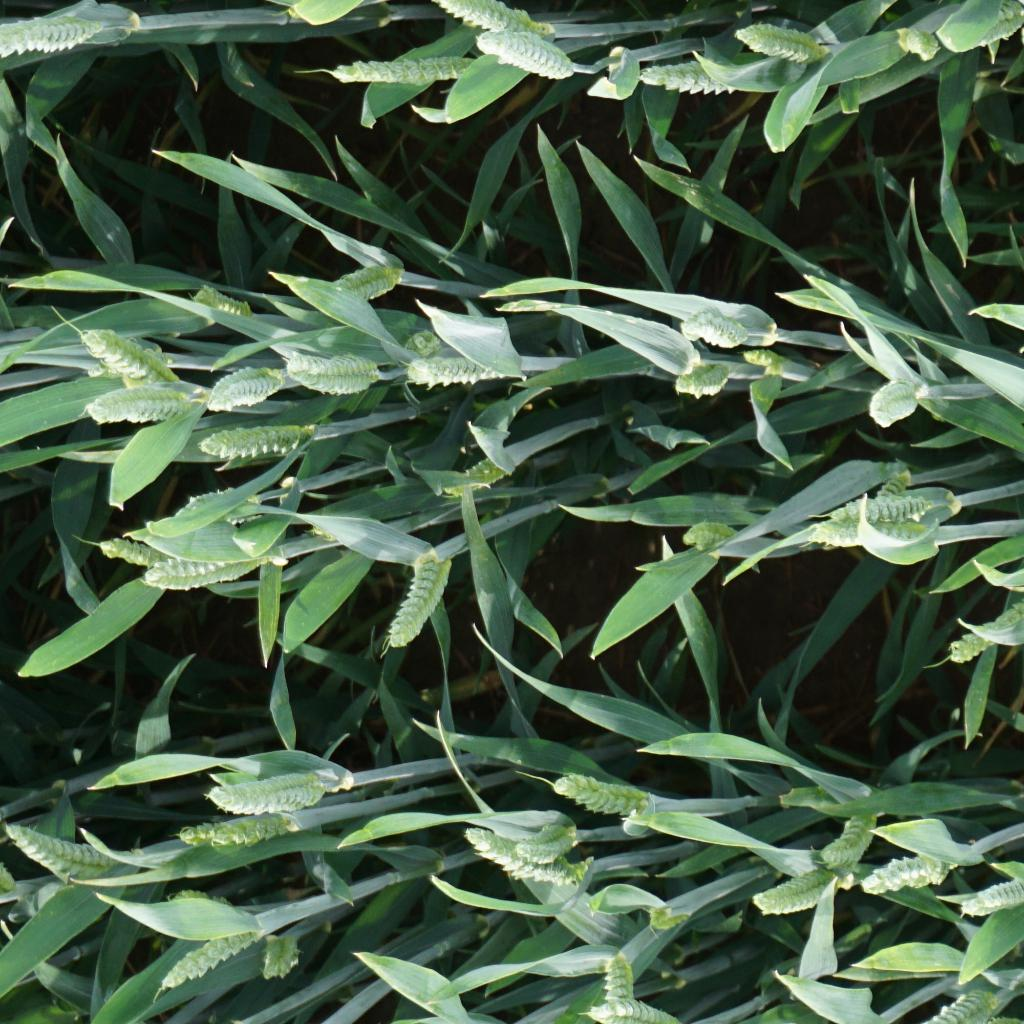0-0: (156, 919, 272, 995), (381, 543, 459, 651), (7, 815, 117, 884), (460, 818, 570, 886), (208, 760, 333, 819), (137, 550, 287, 592), (784, 507, 958, 543), (73, 324, 173, 386), (471, 20, 577, 77), (176, 802, 299, 851), (195, 417, 327, 461), (949, 586, 1024, 663), (397, 0, 546, 37), (754, 861, 851, 916), (553, 763, 655, 815), (278, 345, 380, 396), (0, 9, 110, 56), (180, 479, 291, 525), (862, 843, 960, 894), (315, 52, 471, 83), (82, 384, 201, 424), (815, 801, 882, 871), (640, 56, 756, 94), (736, 16, 828, 62), (401, 355, 519, 389), (204, 365, 285, 414), (818, 496, 958, 523), (925, 978, 1007, 1024), (94, 534, 205, 567), (952, 0, 1024, 50), (514, 813, 580, 867), (76, 345, 181, 378), (866, 372, 925, 430), (956, 869, 1024, 919), (323, 257, 400, 301), (683, 302, 755, 349), (581, 994, 690, 1024), (260, 922, 312, 984), (672, 352, 733, 401), (184, 284, 251, 324), (602, 952, 639, 1024), (389, 327, 442, 377), (446, 455, 510, 495), (160, 885, 237, 915), (678, 515, 737, 550), (900, 25, 939, 62), (878, 465, 911, 508), (743, 336, 780, 368), (1015, 952, 1024, 997)
